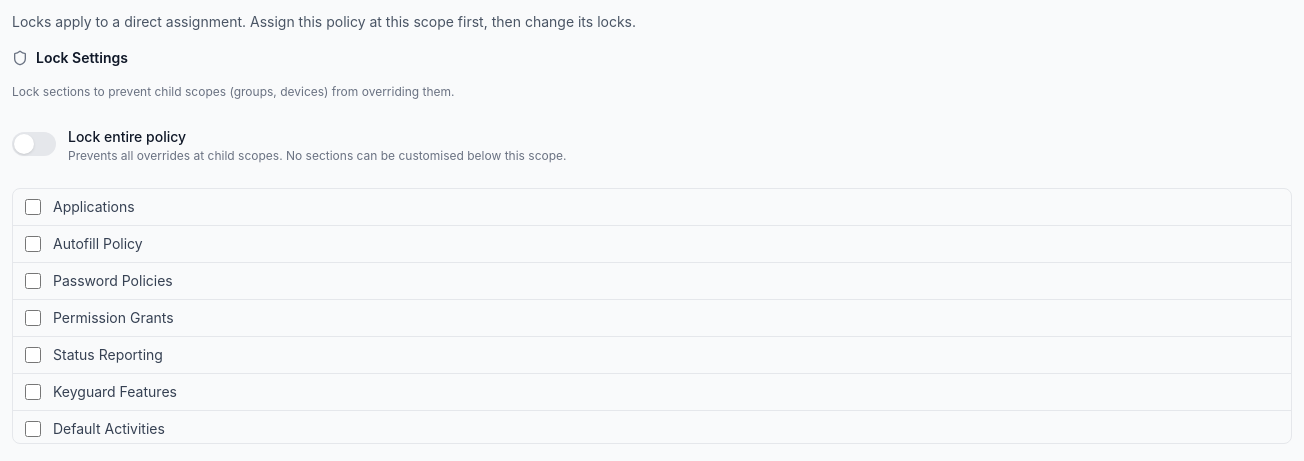
Test case: policy lock editing generation and usability › disables duplicate saves while loading and explains missing direct assignments
The image size is (1304, 461).
Later steps or results of the test are not shown.
Click the switch: click(34, 144) x1=12 y1=132 x2=56 y2=156
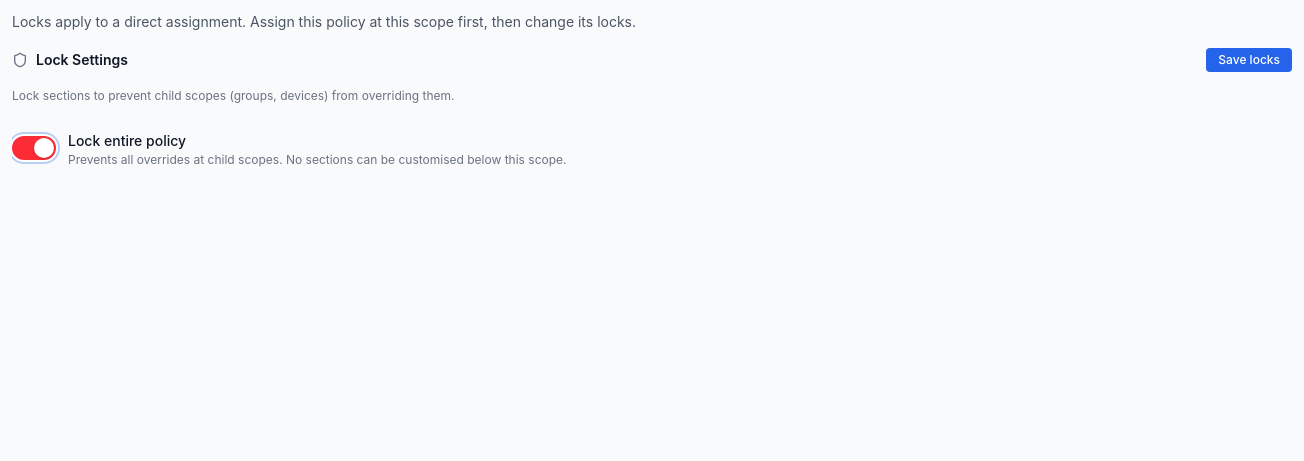
Check: the text "Assign this policy at this scope first" is shown, box x1=12 y1=13 x2=636 y2=30
Check: the button "Save locks" is disabled, box x1=1206 y1=48 x2=1292 y2=72
